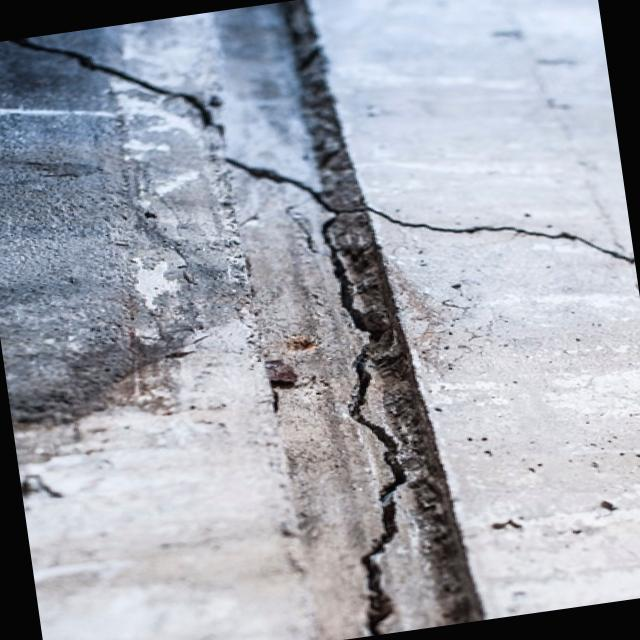crack: (11, 0, 369, 261), (301, 218, 433, 636), (366, 170, 632, 304)
spall: (346, 308, 406, 364)
